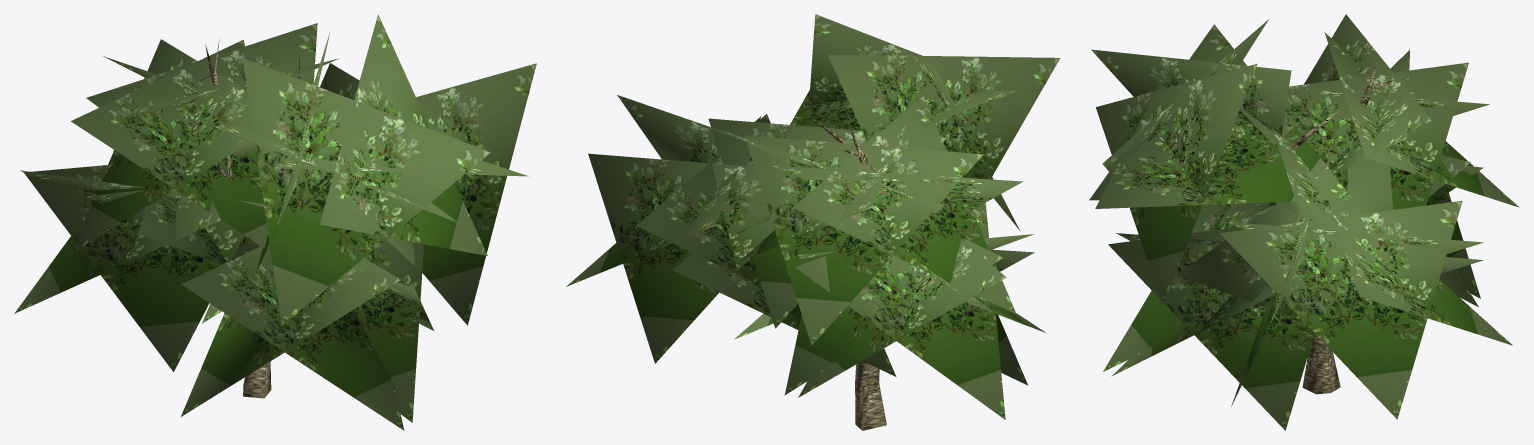
Rendered from apple-3.glb.
The picture shows the model from 3 angles, left to right: view 1: azimuth 30°, elevation 25°; view 2: azimuth 150°, elevation 25°; view 3: azimuth 270°, elevation 25°; orthographic projection. The views are drawn at different scales.
Visible parts, largest first — view 1: apple-3; view 2: apple-3; view 3: apple-3.
Part boxes in pixels (bbox=[...]): apple-3: bbox=[14, 14, 536, 430]; apple-3: bbox=[566, 14, 1060, 430]; apple-3: bbox=[1089, 14, 1519, 430].
Size of the model in its own units: 8.56 by 6.62 by 7.05.
2 materials, 2 textured.
